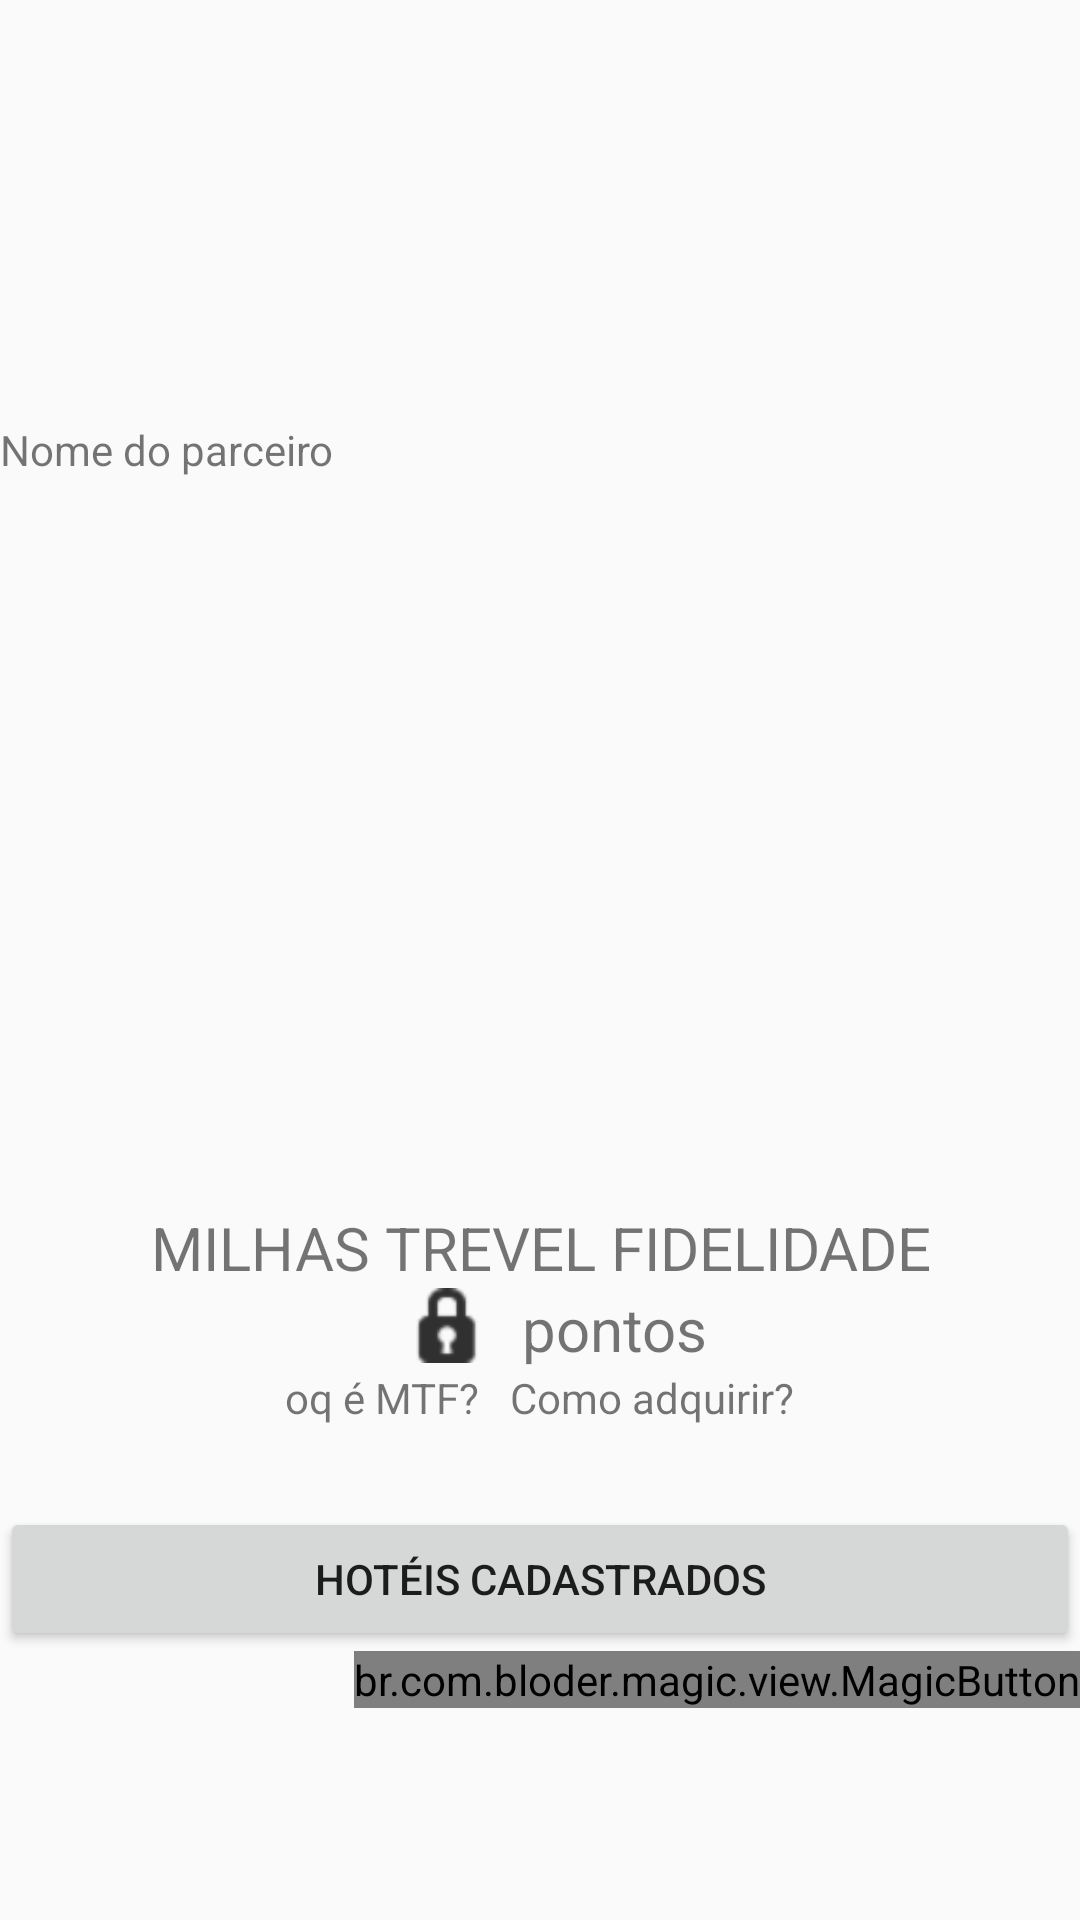

Screen size 1080x1920. Icon name, then its center in pixels as (x=x, y=y):
secure: (x=446, y=1325)
